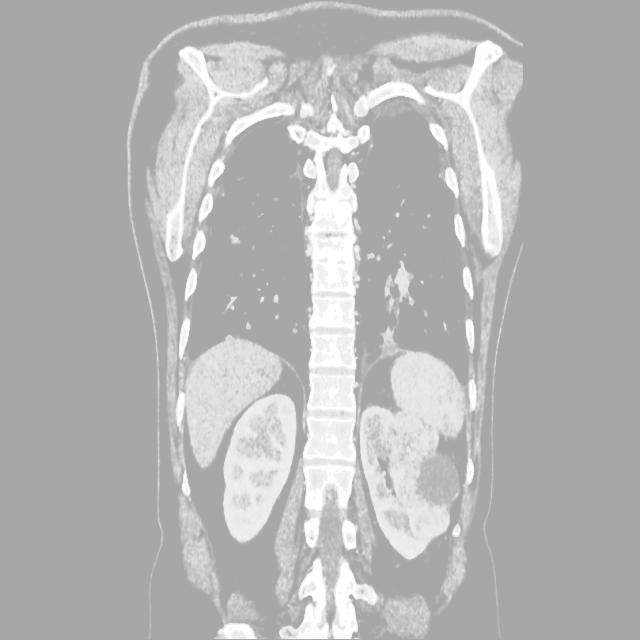TUMOR: (75, 332, 544, 563)
